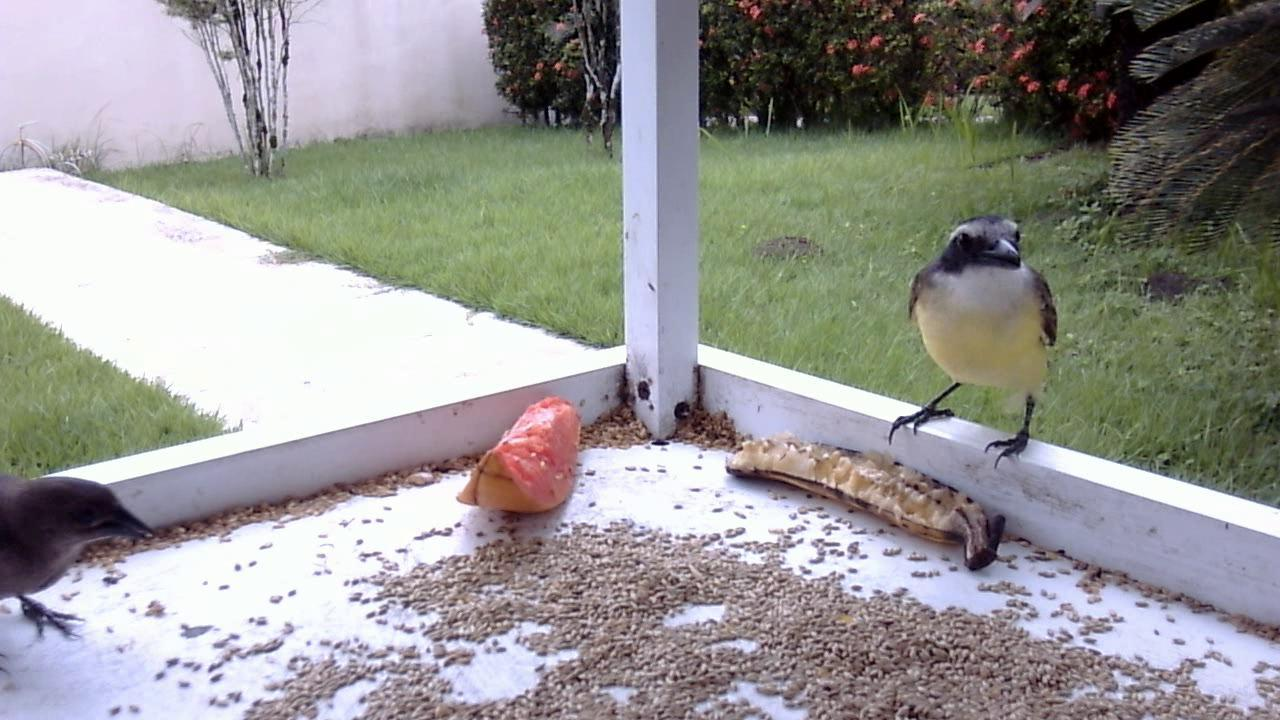bem_te_vi: (882, 208, 1067, 475)
chupim: (1, 460, 162, 674)
